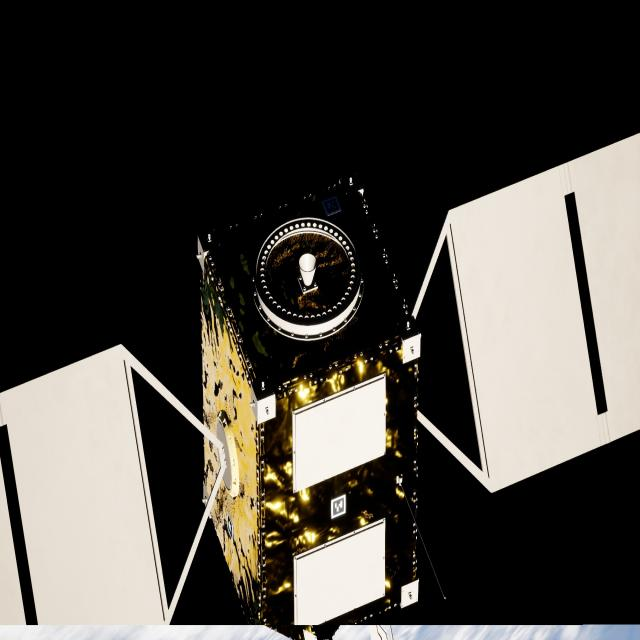medium_debris: (0, 133, 640, 636)
